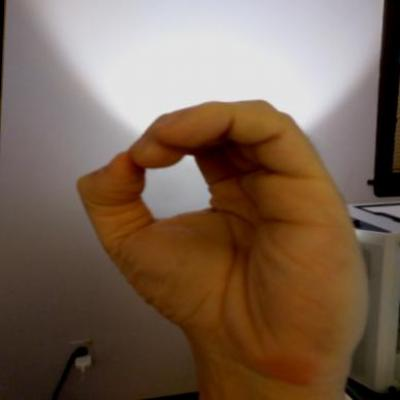hand: (60, 82, 386, 386)
